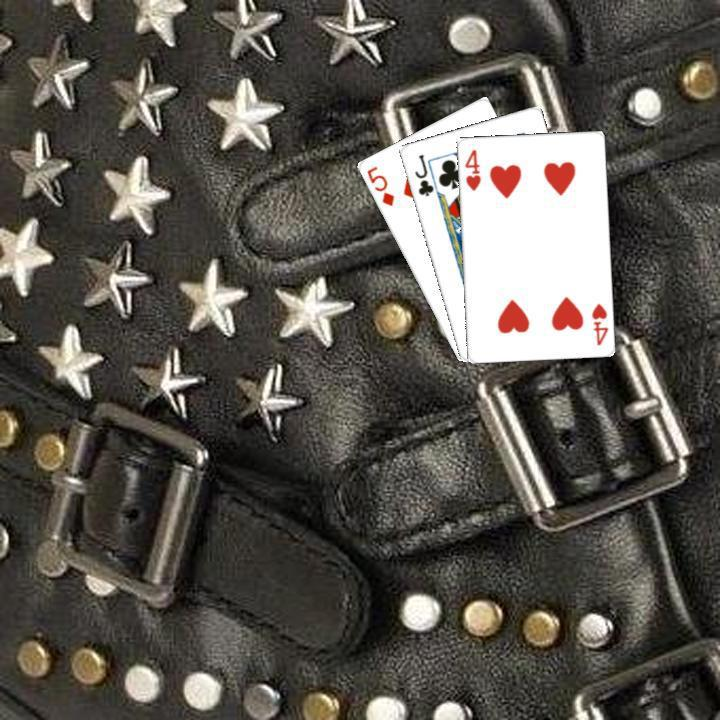4: (587, 299, 610, 347), (460, 145, 482, 192)
5: (362, 162, 396, 208)
J: (410, 150, 435, 198)
